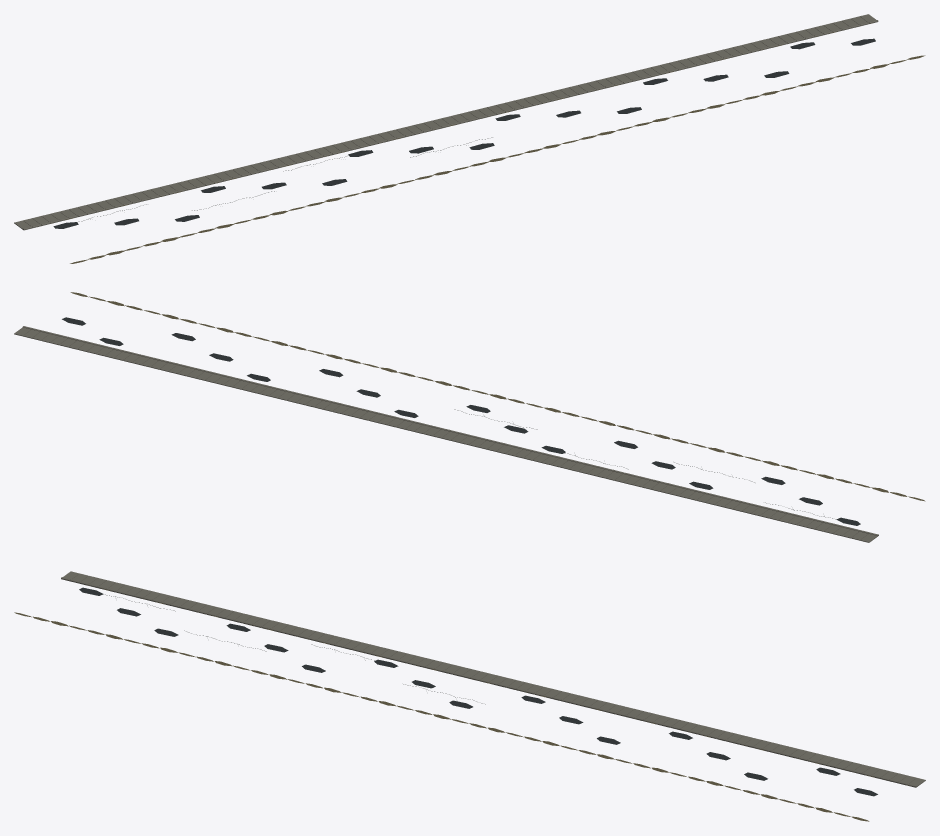
The model's file is street_ground.glb.
The picture shows the model from 3 angles, top to bottom: view 1: azimuth 30°, elevation 25°; view 2: azimuth 150°, elevation 25°; view 3: azimuth 330°, elevation 25°; orthographic projection.
Parts seen in each view (by area): view 1: DD_street_ground; view 2: DD_street_ground; view 3: DD_street_ground.
Part boxes in pixels (box(x1,y1,x2,y2)): DD_street_ground: box(14, 14, 925, 263); DD_street_ground: box(14, 292, 925, 542); DD_street_ground: box(14, 571, 925, 821).
Size of the model in its own units: 47.06 by 0.0705 by 5.54.
4 materials, 3 textured.
